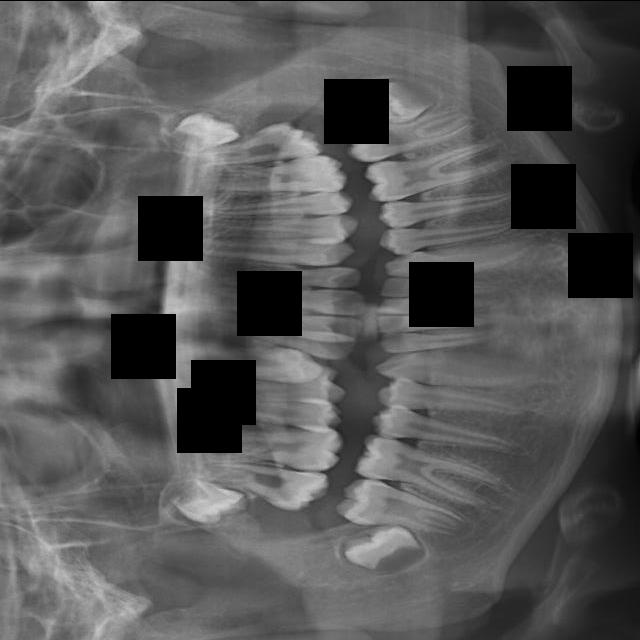3M ESPE Implant: (159, 478, 255, 535)
AGS Medikal Implant: (187, 264, 362, 287)
AMerOss Implant: (146, 233, 356, 267)
Amalgam filling: (195, 214, 362, 239)
Anthogyr Implant: (183, 193, 357, 220)
Bicon Implant: (181, 151, 353, 196)
BioHorizons Implant: (173, 114, 328, 175)
BioLife Implant: (160, 100, 244, 156)
Biomet 3i Implant: (348, 77, 440, 116)
Blue Sky Bio Implant: (432, 129, 433, 129)
Camlog Implant: (445, 167, 446, 168)
Caries: (176, 451, 333, 519)
Composite filling: (373, 179, 536, 232)
Cowellmedi Implant: (374, 214, 529, 258)
Crown: (381, 225, 553, 289)
DENTSPLY Implant: (380, 277, 529, 298)
Dentatus Implant: (379, 295, 515, 315)
Dentis Implant: (377, 311, 510, 333)
Dentium Implant: (375, 326, 528, 354)
Euroteknika Implant: (371, 346, 557, 386)
Filling: (374, 377, 534, 421)
Frontier Implant: (368, 402, 541, 459)
Hiossen Implant: (188, 422, 349, 474)
Implant: (329, 476, 479, 540)
Implant Direct: (441, 476, 442, 476)
Keystone Dental Implant: (331, 523, 433, 580)
MIS Implant: (173, 395, 346, 431)
Mandible: (175, 382, 350, 404)
Maxilla: (141, 341, 345, 385)
Megagen Implant: (159, 302, 361, 363)
Neodent Implant: (189, 299, 366, 340)
Neoss Implant: (188, 284, 370, 315)
